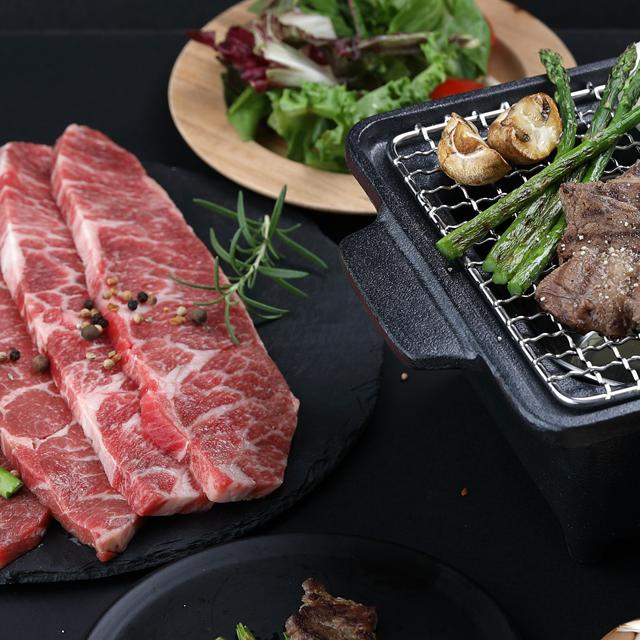beef: (0, 164, 223, 499)
